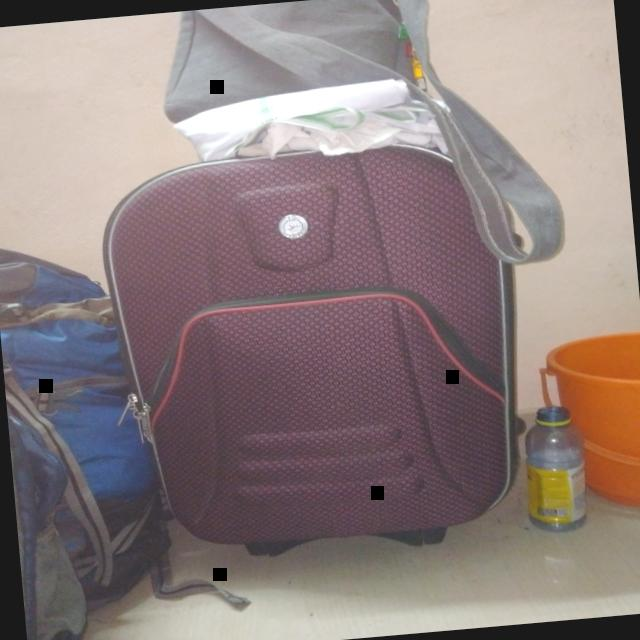luggage: (101, 146, 516, 557)
